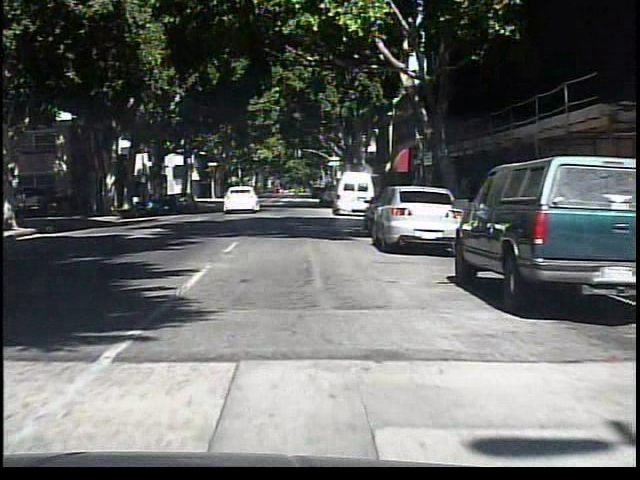person: (290, 175, 306, 205)
